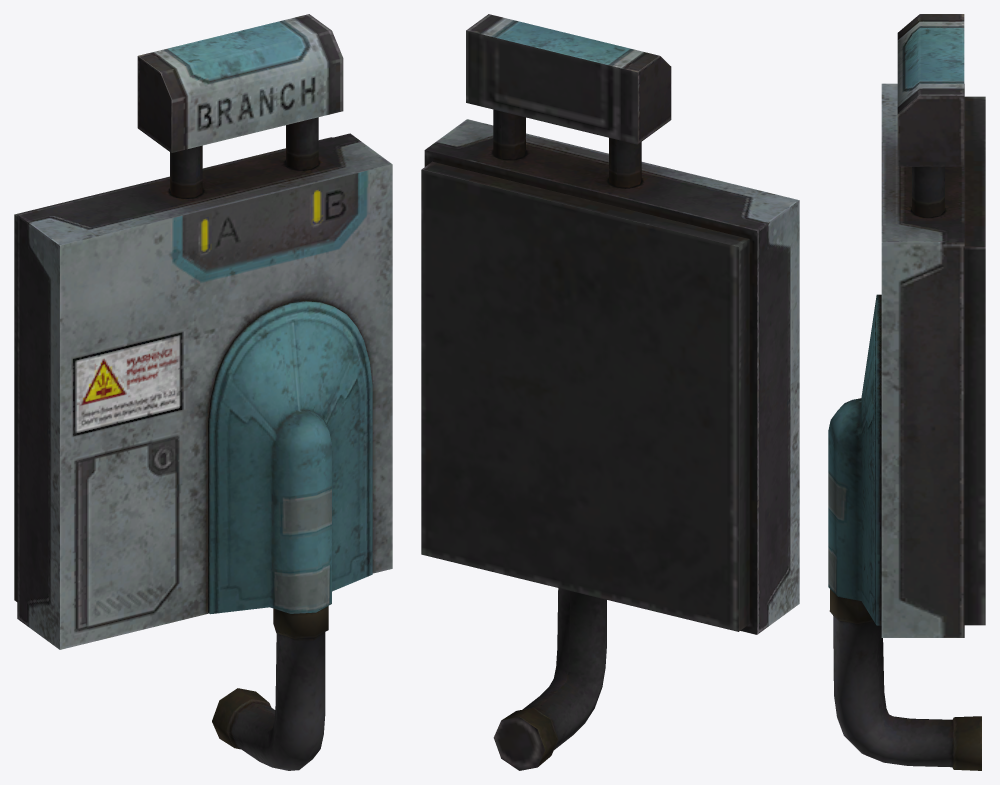
The model's file is pipebranch.dae.
The picture shows the model from 3 angles, left to right: view 1: azimuth 30°, elevation 25°; view 2: azimuth 150°, elevation 25°; view 3: azimuth 270°, elevation 25°; orthographic projection. The views are drawn at different scales.
Visible parts, largest first — view 1: polymsh2; view 2: polymsh2; view 3: polymsh2.
Boxes of the visible parts, x1=… form: polymsh2: x1=14, y1=14, x2=392, y2=770; polymsh2: x1=421, y1=14, x2=799, y2=770; polymsh2: x1=828, y1=14, x2=985, y2=770.
Size of the model in its own units: 23.71 by 48.96 by 9.94.
